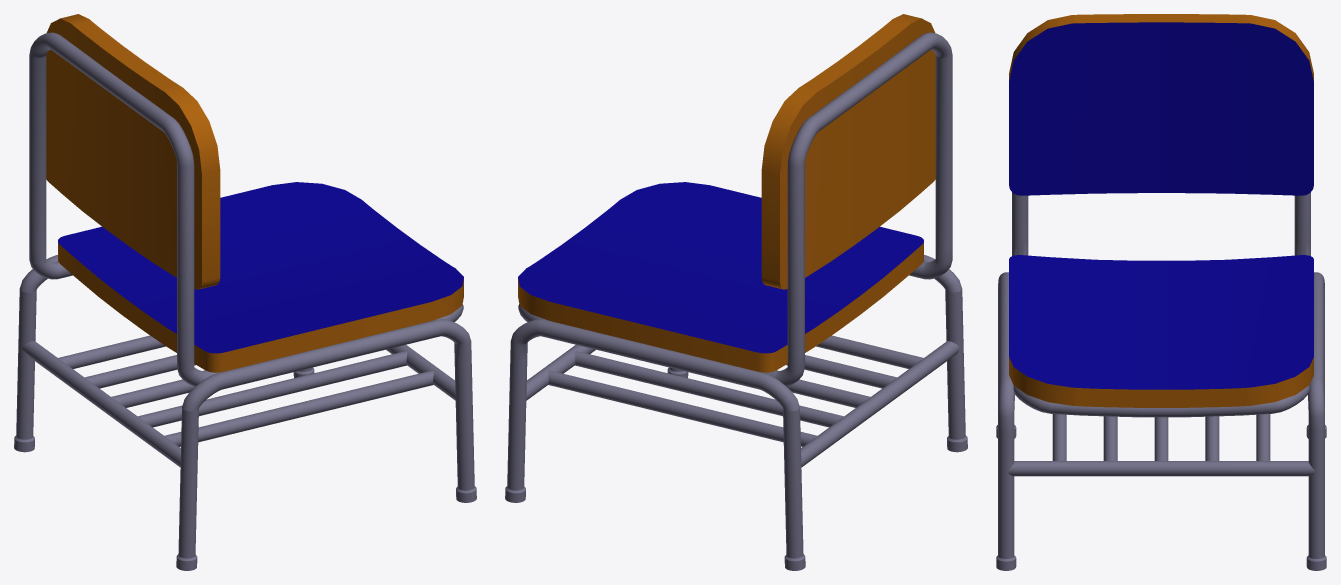
Rendered from silla.fbx.
The picture shows the model from 3 angles, left to right: view 1: azimuth 30°, elevation 25°; view 2: azimuth 150°, elevation 25°; view 3: azimuth 270°, elevation 25°; orthographic projection. The views are drawn at different scales.
Parts seen in each view (by area): view 1: Madera; view 2: Madera; view 3: Madera.
Part boxes in pixels (bbox=[...]): Madera: bbox=[14, 14, 476, 570]; Madera: bbox=[505, 14, 967, 570]; Madera: bbox=[996, 14, 1326, 570].
Size of the model in its own units: 33.92 by 46.36 by 32.48.
